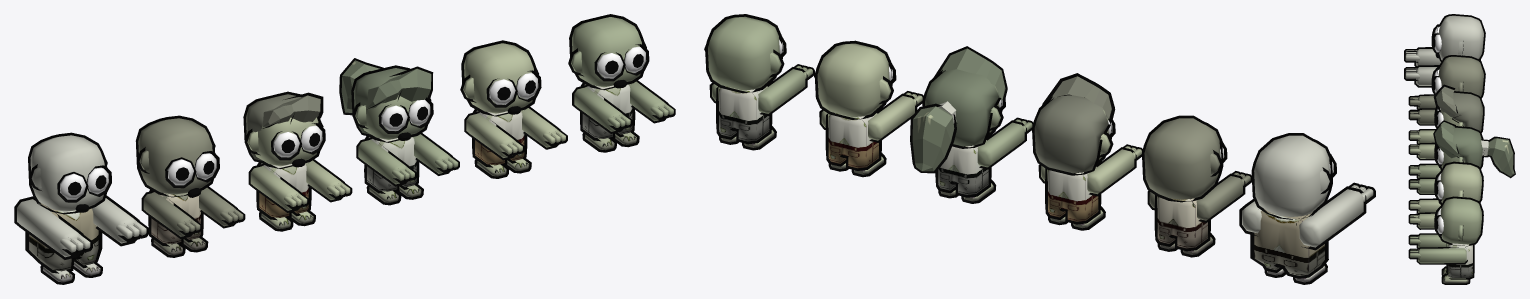
File: zombies.fbx
3 renders of one model, left to right at view 1: azimuth 30°, elevation 25°; view 2: azimuth 150°, elevation 25°; view 3: azimuth 270°, elevation 25°, orthographic. The views are drawn at different scales.
Visible parts, largest first — view 1: zombie6_body, zombie3_head, zombie5_head, zombie6_head, zombie4_head, zombie2_head, zombie1_head, zombie4_body, zombie2_body, zombie3_body, zombie1_body, zombie5_body; view 2: zombie3_head, zombie6_body, zombie4_head, zombie5_head, zombie6_head, zombie1_head, zombie2_head, zombie1_body, zombie2_body, zombie4_body, zombie5_body, zombie3_body; view 3: zombie3_head, zombie1_body, zombie1_head, zombie6_head, zombie4_head, zombie5_head, zombie2_head, zombie6_body, zombie3_body, zombie2_body, zombie5_body, zombie4_body.
Boxes of the visible parts, x1,y1,x2,y2 form: zombie6_body: (14, 195, 148, 284); zombie3_head: (339, 58, 433, 142); zombie5_head: (135, 115, 219, 197); zombie6_head: (28, 132, 111, 214); zombie4_head: (243, 91, 325, 168); zombie2_head: (460, 40, 541, 116); zombie1_head: (568, 14, 649, 90); zombie4_body: (248, 159, 352, 231); zombie2_body: (464, 107, 567, 178); zombie3_body: (356, 133, 459, 205); zombie1_body: (572, 80, 675, 152); zombie5_body: (141, 186, 245, 257); zombie3_head: (910, 46, 1007, 173); zombie6_body: (1239, 182, 1375, 284); zombie4_head: (1032, 73, 1115, 175); zombie5_head: (1142, 115, 1227, 202); zombie6_head: (1251, 133, 1336, 219); zombie1_head: (704, 14, 786, 93); zombie2_head: (814, 40, 896, 119); zombie1_body: (709, 64, 814, 150); zombie2_body: (819, 91, 923, 177); zombie4_body: (1038, 144, 1142, 230); zombie5_body: (1147, 171, 1251, 257); zombie3_body: (935, 117, 1033, 203); zombie3_head: (1433, 120, 1515, 178); zombie1_body: (1408, 233, 1474, 284); zombie1_head: (1434, 196, 1483, 246); zombie6_head: (1431, 14, 1485, 61); zombie4_head: (1433, 84, 1484, 133); zombie5_head: (1431, 55, 1485, 98); zombie2_head: (1434, 161, 1483, 204); zombie6_body: (1404, 47, 1480, 87); zombie3_body: (1408, 163, 1440, 194); zombie2_body: (1408, 198, 1440, 229); zombie5_body: (1408, 94, 1435, 125); zombie4_body: (1408, 129, 1435, 160).
Bounding box in the file's own units: 2292 × 471 × 544.
Materials: 1 (1 with a texture image).
